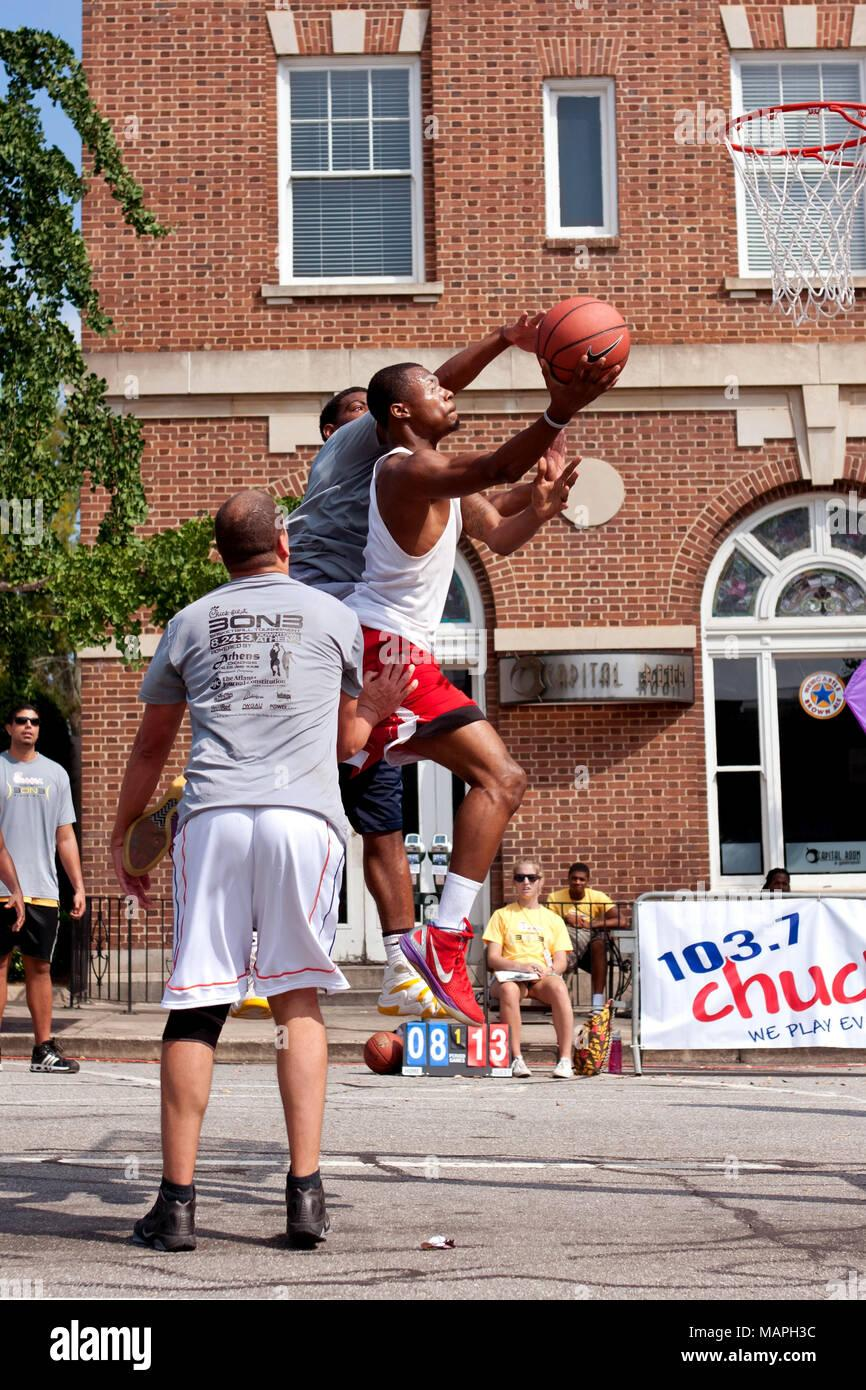basketball: (538, 284, 634, 386)
